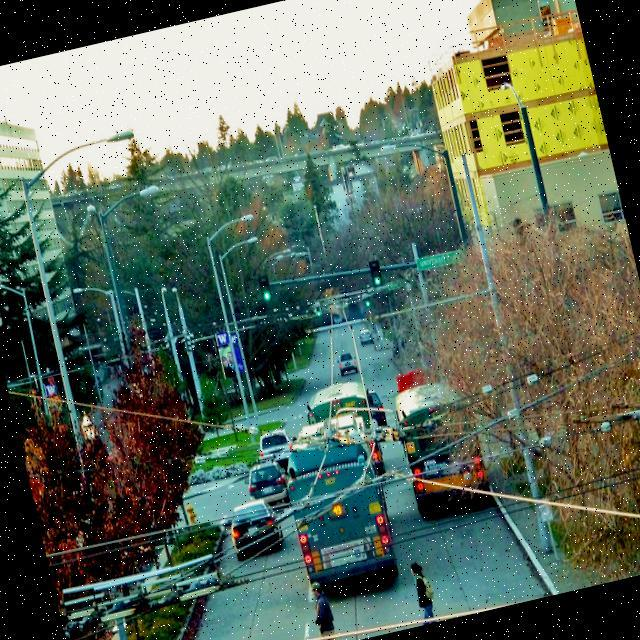fire_hydrant: (182, 500, 198, 523)
